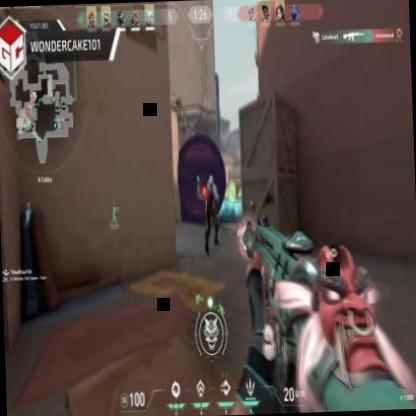enemy: (203, 176, 221, 251)
enemy_head: (207, 176, 214, 186)
